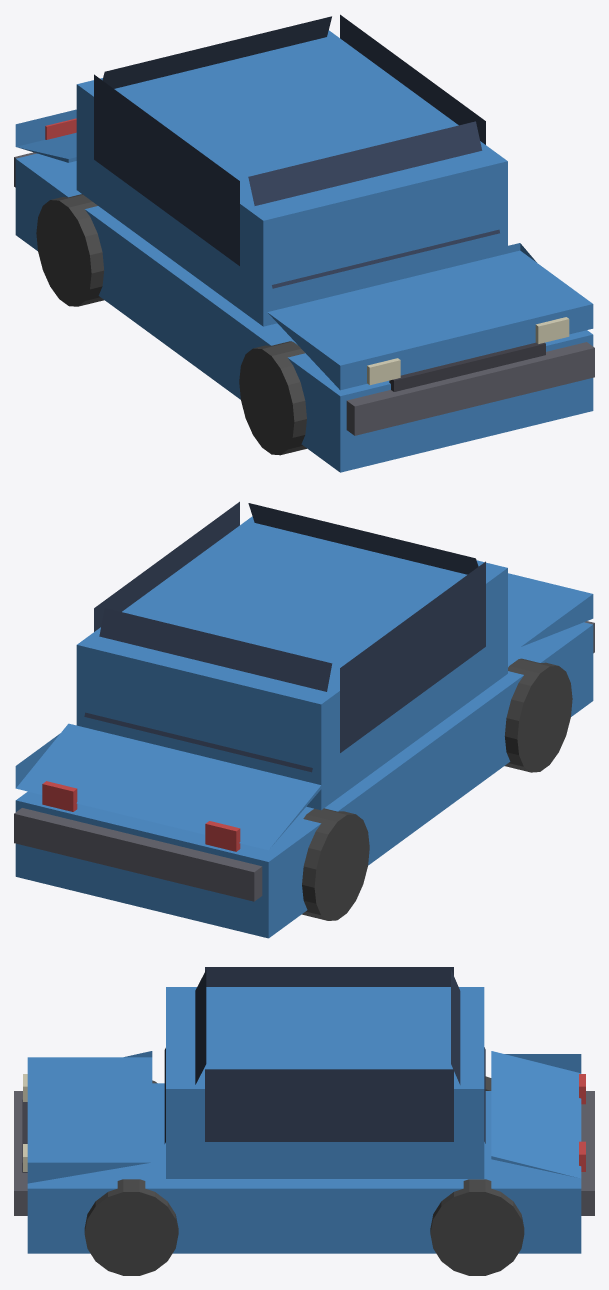
File: lowpoly_car.glb
3 views of the same model, one above another, from view 1: azimuth 30°, elevation 25°; view 2: azimuth 150°, elevation 25°; view 3: azimuth 270°, elevation 25° (orthographic). The views are drawn at different scales.
Parts seen in each view (by area): view 1: part_000, part_001, part_002, part_012, part_018, part_004, part_005, part_007; view 2: part_000, part_001, part_003, part_012, part_018, part_008, part_006; view 3: part_000, part_001, part_009, part_015, part_003, part_002.
Boxes of the visible parts, x1,y1,x2,y2 form: part_000: (15, 30, 593, 472); part_001: (94, 14, 499, 288); part_002: (346, 342, 594, 435); part_012: (239, 341, 306, 455); part_018: (36, 194, 104, 306); part_004: (389, 342, 545, 391); part_005: (535, 317, 569, 343); part_007: (367, 358, 400, 385); part_000: (15, 516, 593, 938); part_001: (84, 501, 485, 772); part_003: (14, 808, 262, 901); part_012: (504, 658, 572, 772); part_018: (302, 808, 369, 920); part_008: (205, 821, 240, 851); part_006: (42, 781, 77, 811); part_000: (27, 987, 581, 1253); part_001: (164, 967, 485, 1143); part_009: (84, 1179, 178, 1275); part_015: (430, 1179, 524, 1275); part_003: (581, 1091, 594, 1215); part_002: (14, 1091, 27, 1215).
Size of the model in its own units: 1.98 by 1.6 by 4.2.
